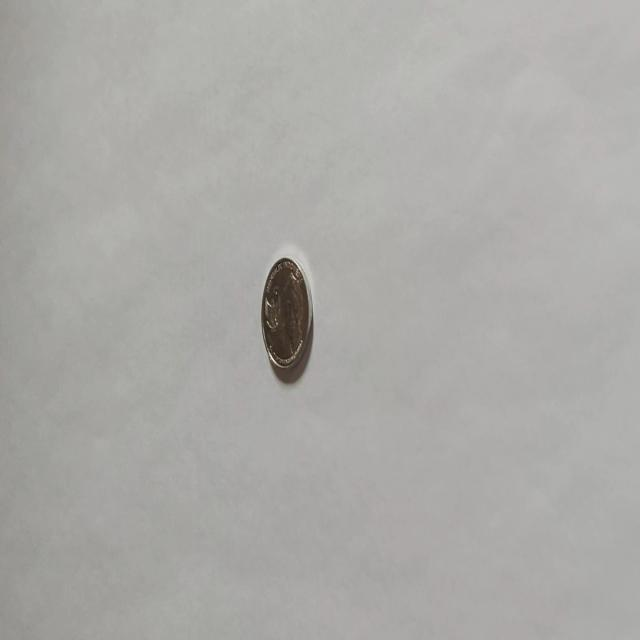dua ratus rupiah: (260, 255, 312, 372)
